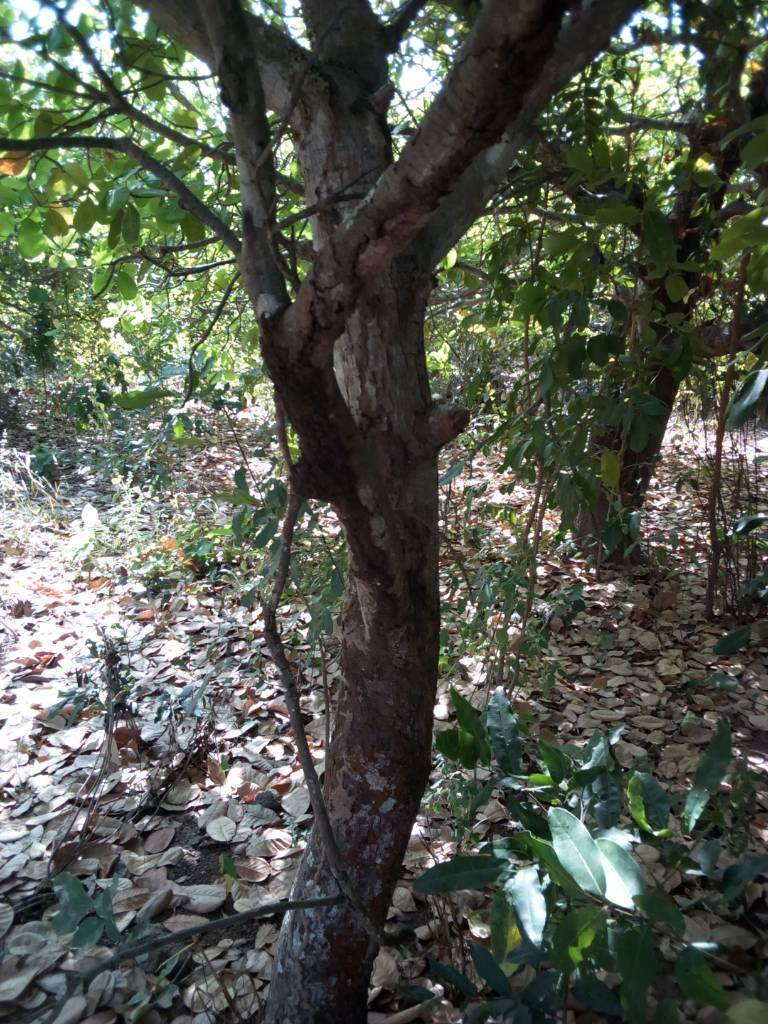Termites: (335, 536, 432, 786)
